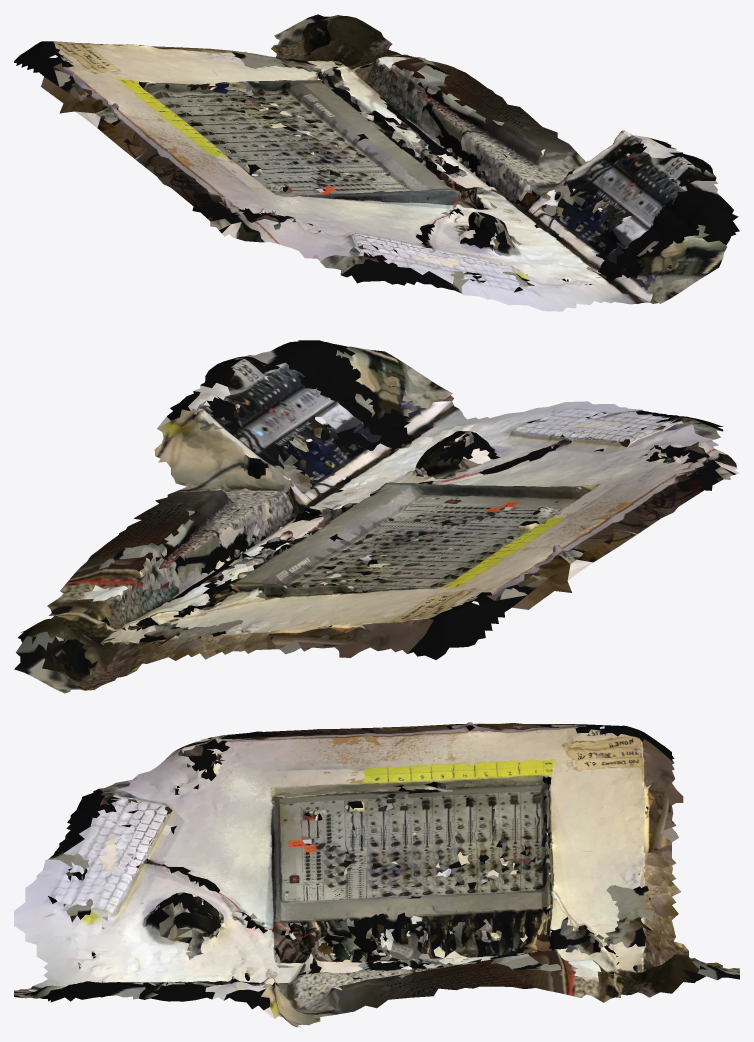
The picture shows the model from 3 angles, top to bottom: view 1: azimuth 30°, elevation 25°; view 2: azimuth 150°, elevation 25°; view 3: azimuth 270°, elevation 25°; orthographic projection. The views are drawn at different scales.
Visible parts, largest first — view 1: Default; view 2: Default; view 3: Default.
Boxes of the visible parts, x1,y1,x2,y2 form: Default: (14, 14, 739, 311); Default: (14, 340, 739, 693); Default: (14, 722, 739, 1027).
Bounding box in the file's own units: 8.32 × 2 × 10.87.
Materials: 1 (1 with a texture image).
